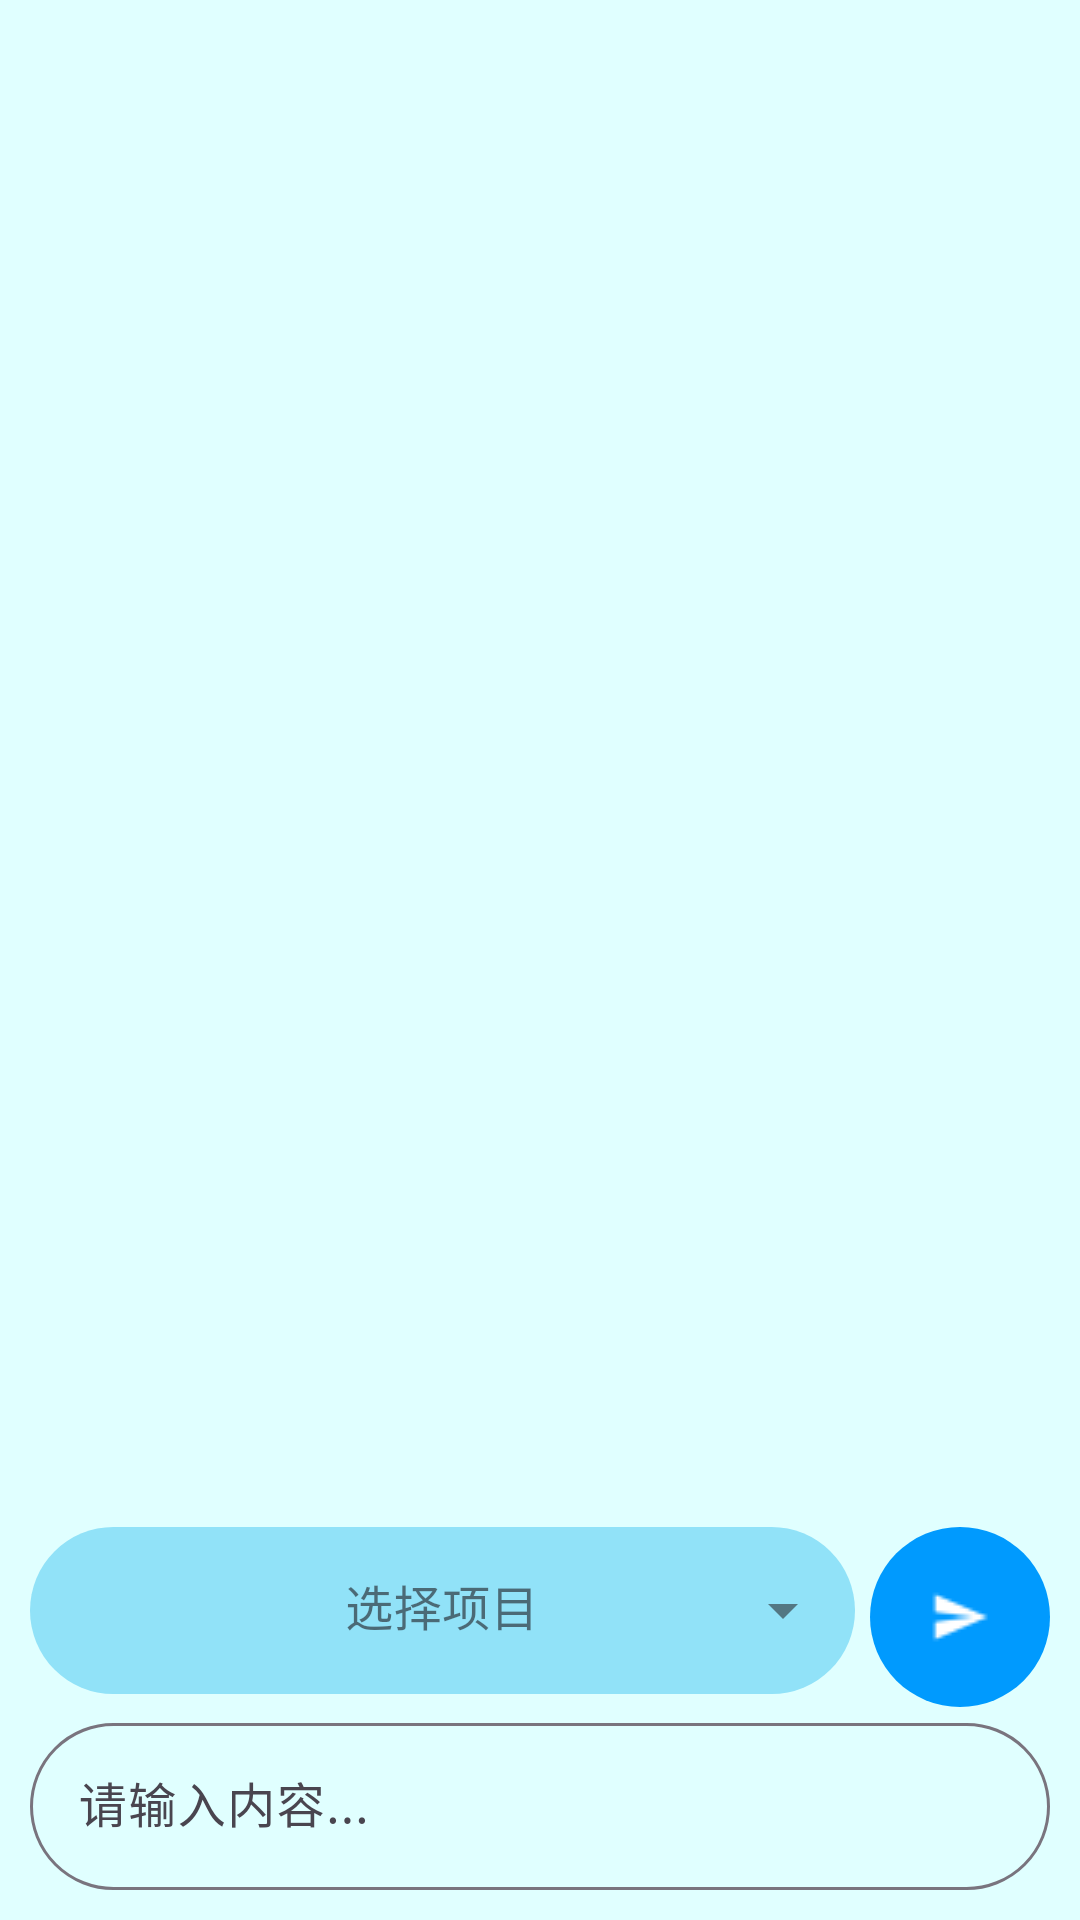

Where icons sit on this 1080*1920 app screen, as (x1, y1, x2, y2):
send: (870, 1527, 1050, 1707)
